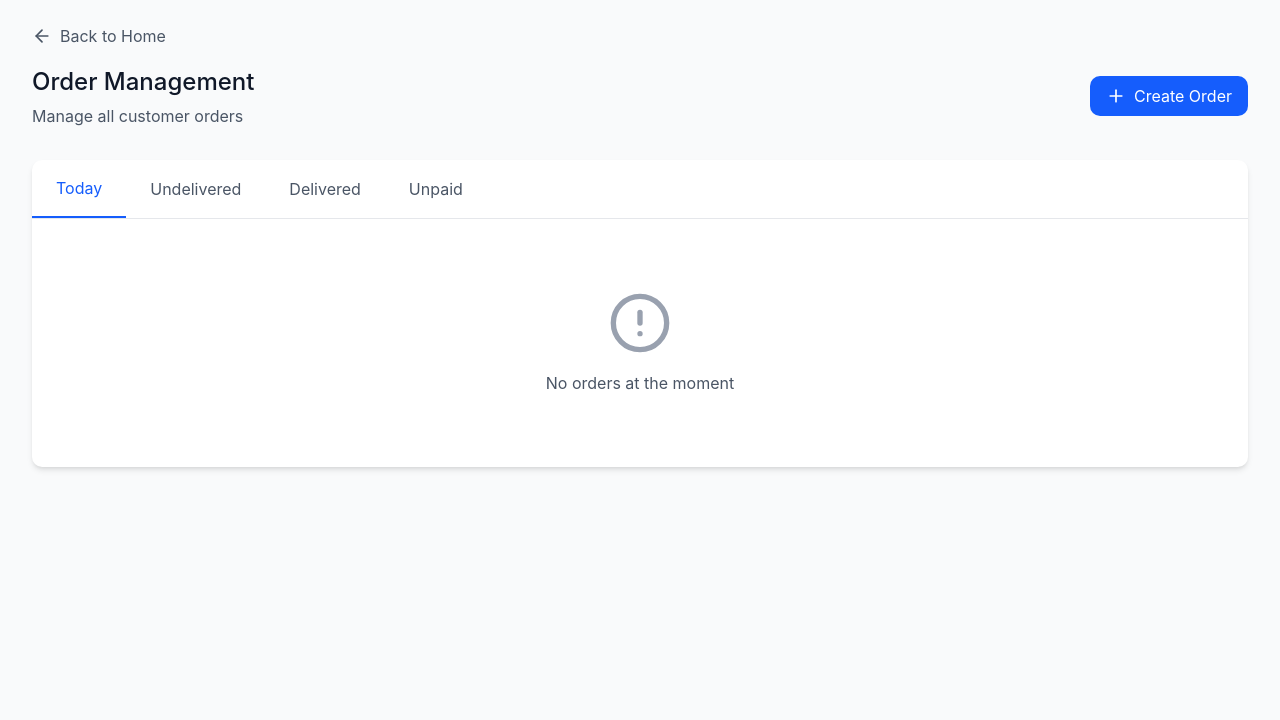
Test: OrderManagementScreen › Delivery Today toggle on the Undelivered tab › moves the delivery to today and refreshes the list when confirmed
The width and height of the screenshot is (1280, 720).
Click the button "Undelivered": (196, 189) [126, 160, 265, 218]
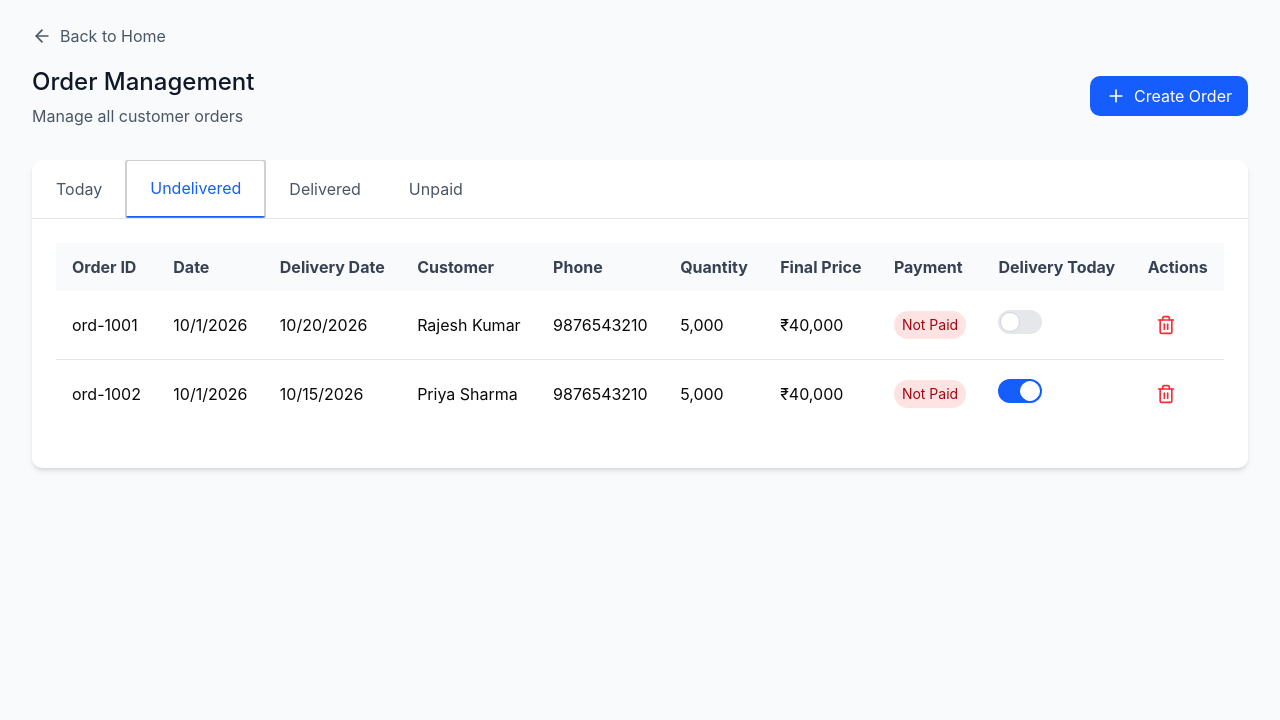
Expected: the text "Rajesh Kumar" is shown, [401, 291, 537, 360]
Click the checkbox named "Delivery today for order ord-1001": (1020, 322) [998, 310, 1042, 334]
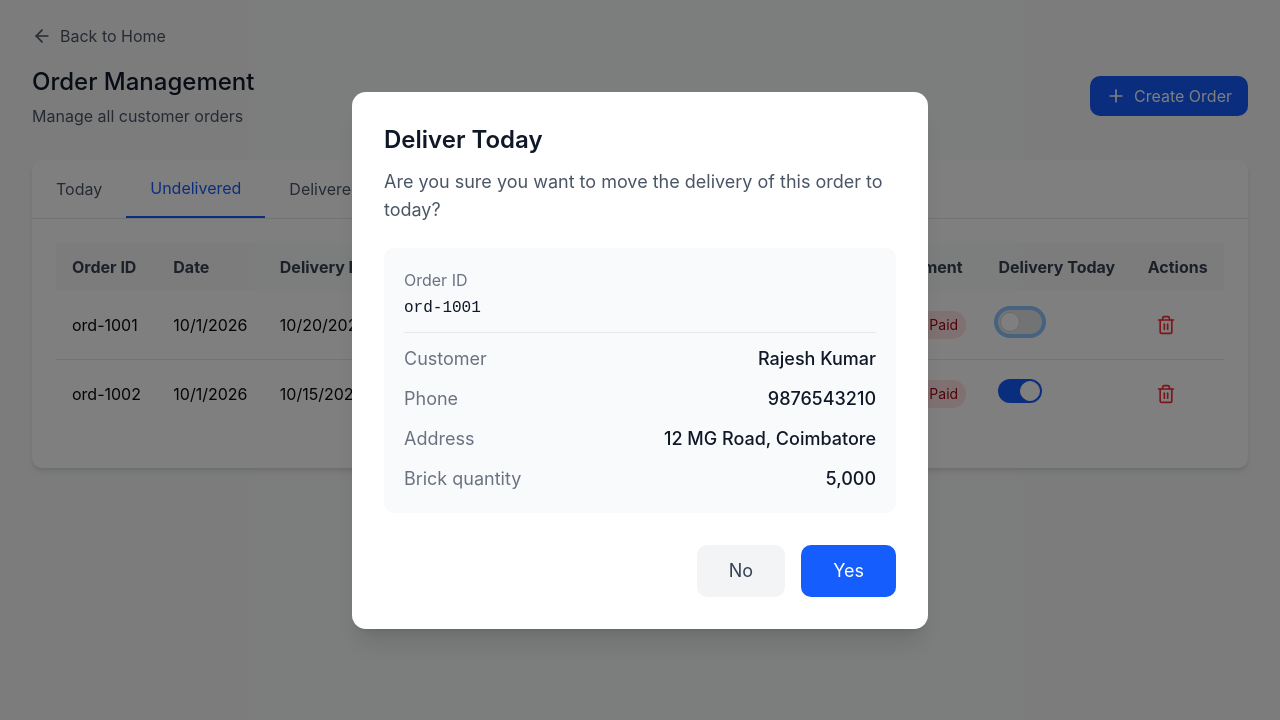
Click the button "Yes": (849, 570) [801, 544, 896, 596]
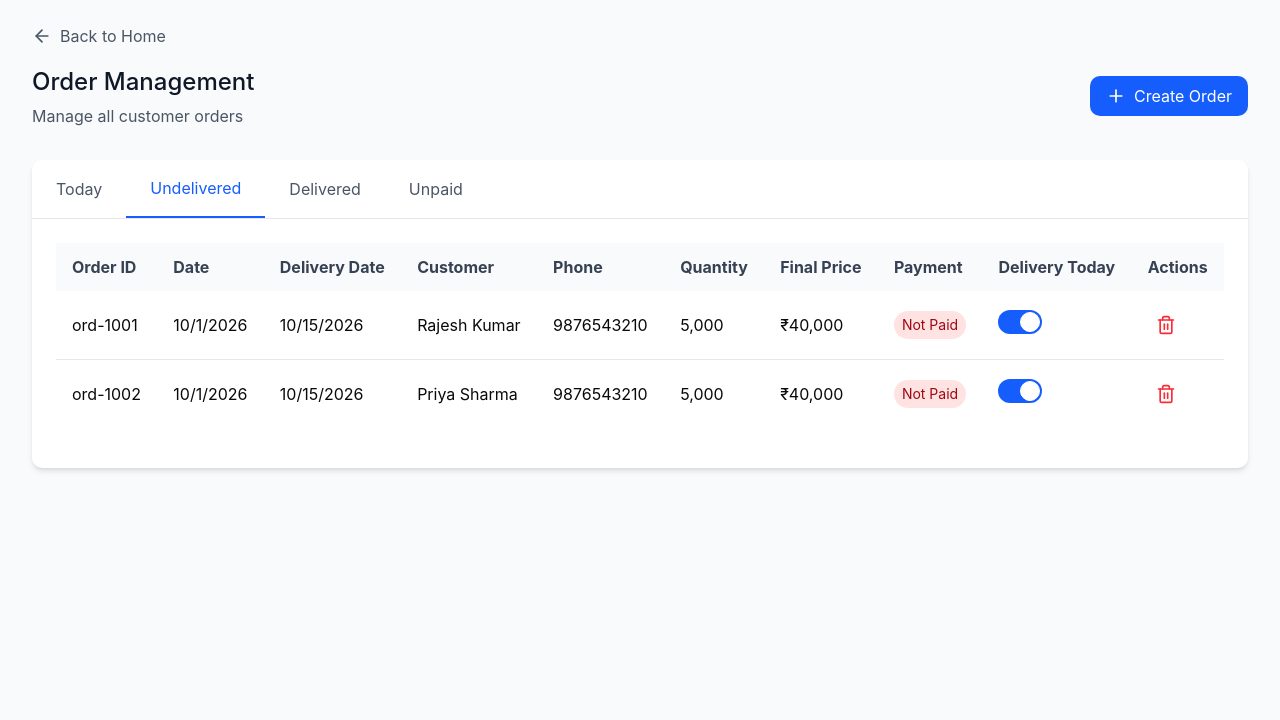
Expected: the dialog is gone
